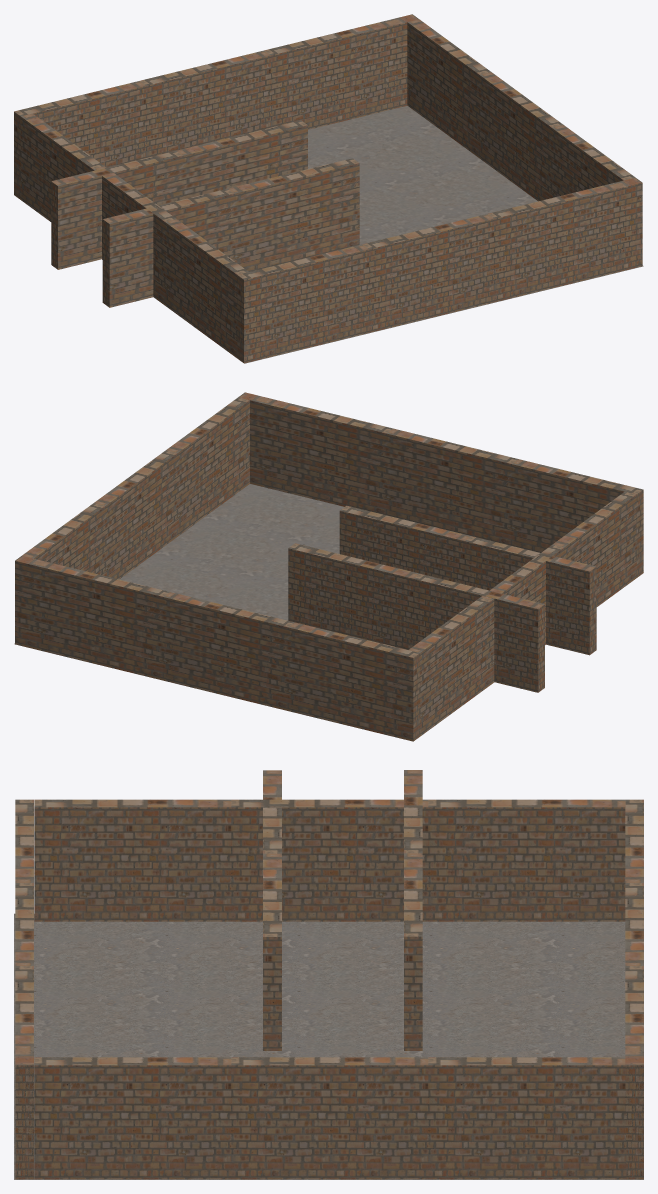
The model's file is Basement.fbx.
3 renders of one model, top to bottom at view 1: azimuth 30°, elevation 25°; view 2: azimuth 150°, elevation 25°; view 3: azimuth 270°, elevation 25°, orthographic. The views are drawn at different scales.
Visible parts, largest first — view 1: Entry_wall.099, Entry_wall.100, Entry_wall.097, Entry_wall.101, Plane.009, Entry_wall.102, Entry_wall.098; view 2: Entry_wall.100, Entry_wall.099, Entry_wall.098, Entry_wall.101, Plane.009, Entry_wall.102, Entry_wall.097; view 3: Plane.009, Entry_wall.101, Entry_wall.102, Entry_wall.099, Entry_wall.100, Entry_wall.098, Entry_wall.097.
Boxes of the visible parts, bbox=[...] form: Entry_wall.099: bbox=[237, 177, 642, 363]; Entry_wall.100: bbox=[14, 14, 418, 199]; Entry_wall.097: bbox=[102, 158, 359, 307]; Entry_wall.101: bbox=[407, 19, 635, 201]; Plane.009: bbox=[244, 105, 643, 363]; Entry_wall.102: bbox=[21, 113, 248, 357]; Entry_wall.098: bbox=[51, 120, 307, 269]; Entry_wall.100: bbox=[15, 556, 420, 741]; Entry_wall.099: bbox=[238, 392, 643, 577]; Entry_wall.098: bbox=[288, 543, 544, 692]; Entry_wall.101: bbox=[22, 397, 249, 579]; Plane.009: bbox=[14, 484, 344, 644]; Entry_wall.102: bbox=[408, 492, 636, 736]; Entry_wall.097: bbox=[339, 505, 596, 655]; Plane.009: bbox=[14, 913, 643, 1179]; Entry_wall.101: bbox=[34, 1057, 625, 1179]; Entry_wall.102: bbox=[34, 799, 625, 921]; Entry_wall.099: bbox=[15, 799, 33, 1179]; Entry_wall.100: bbox=[625, 799, 643, 1179]; Entry_wall.098: bbox=[404, 770, 422, 1050]; Entry_wall.097: bbox=[263, 770, 281, 1050].
Bounding box in the file's own units: 19.44 × 3.51 × 17.52.
